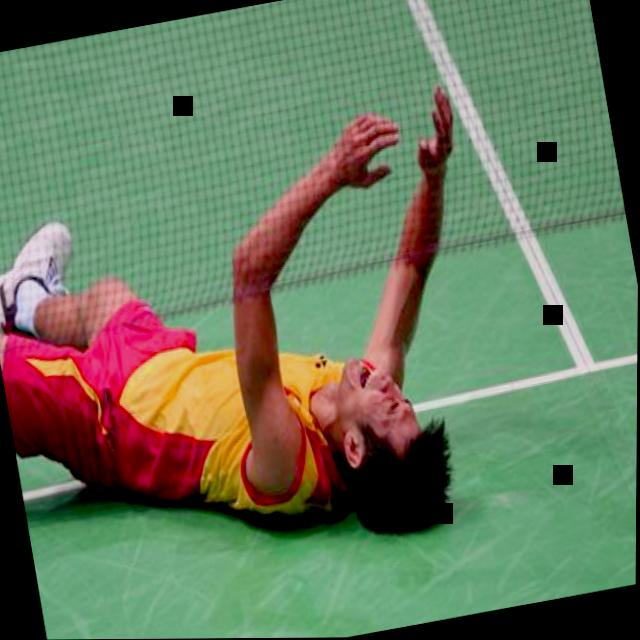Fall-Detected: (0, 36, 551, 606)
